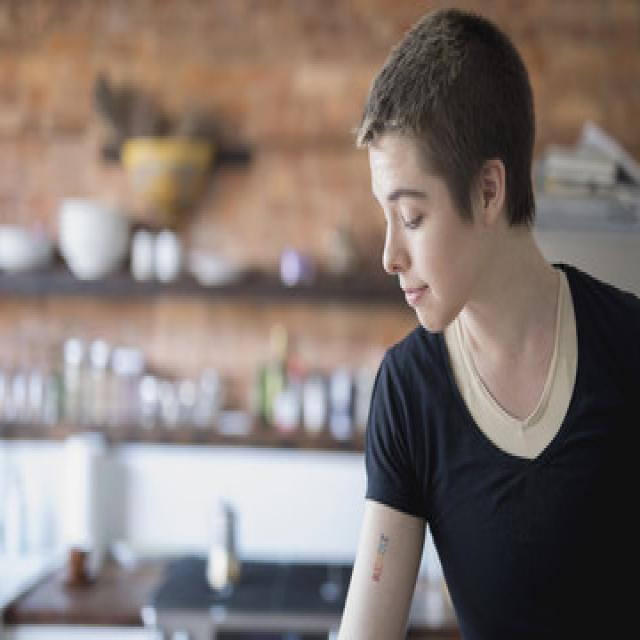person-without-mask: (307, 12, 640, 640)
